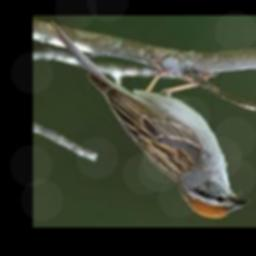Sparrow: (48, 21, 248, 220)
